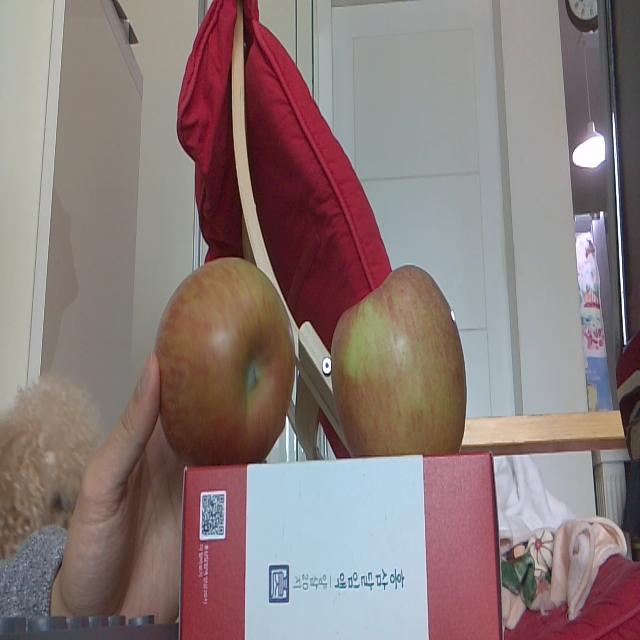apple: (154, 259, 294, 462), (330, 265, 467, 453)
